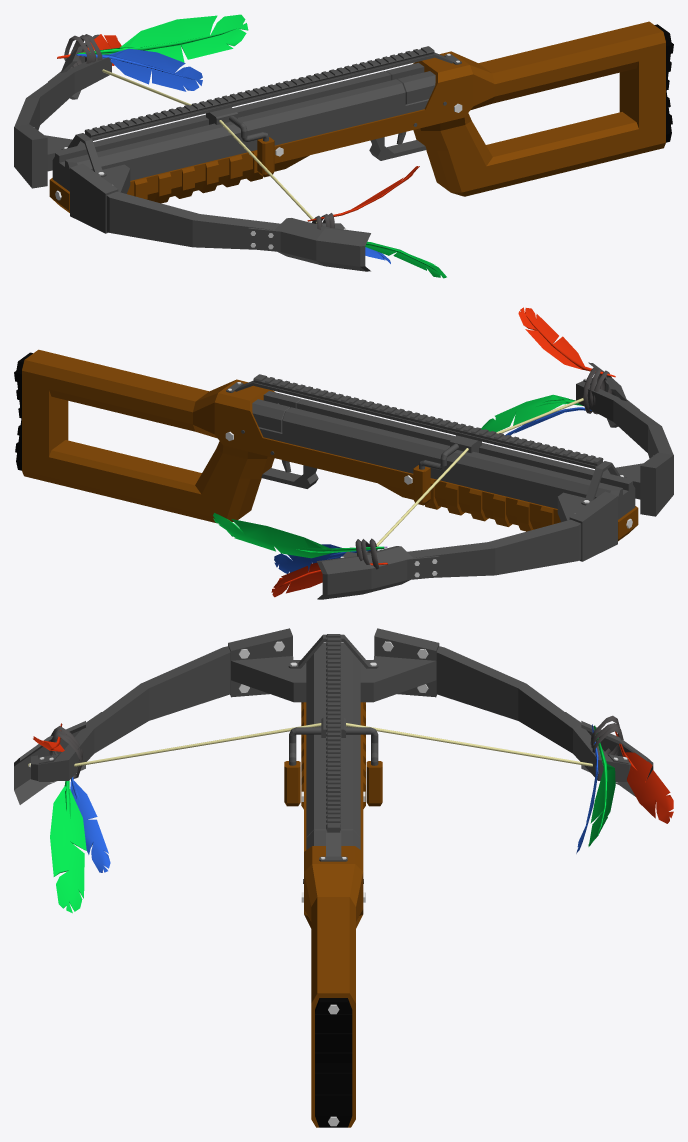
File: crossbow_msi.fbx
The picture shows the model from 3 angles, top to bottom: view 1: azimuth 30°, elevation 25°; view 2: azimuth 150°, elevation 25°; view 3: azimuth 270°, elevation 25°; orthographic projection. The views are drawn at different scales.
Visible parts, largest first — view 1: Cube.001, Cube, Cube.003, DartGun.002, Cube.007, Cube.008, DartGun, Cube.002, Cube.006, Cylinder, Cube.009; view 2: Cube.001, Cube, Cube.003, Cube.007, DartGun.002, Cube.008, DartGun, Cube.002, Cube.006, Cylinder, Cube.009; view 3: Cube.003, Cube.001, Cube, DartGun, Cube.009, Cube.007, DartGun.002, Cube.002, Cube.008, Cylinder, Cylinder.016.
Part boxes in pixels (x1,y1,x2,y2): Cube.001: (49,21,665,212); Cube: (52,62,435,191); Cube.003: (14,51,345,249); DartGun.002: (57,14,248,91); Cube.007: (61,46,461,177); Cube.008: (48,34,370,271); DartGun: (307,166,446,278); Cube.002: (206,107,274,177); Cube.006: (369,137,426,160); Cylinder: (102,69,316,223); Cube.009: (654,24,673,142); Cube.001: (22,349,638,541); Cube: (252,391,635,519); Cube.003: (342,378,673,577); Cube.007: (226,374,626,505); DartGun.002: (213,513,387,597); Cube.008: (317,362,639,599); DartGun: (481,307,615,444); Cube.002: (413,429,481,505); Cube.006: (261,465,318,488); Cylinder: (376,398,583,546); Cube.009: (14,352,32,470); Cube.003: (31,628,631,781); Cube.001: (301,702,365,1127); Cube: (306,642,360,849); DartGun: (33,723,110,913); Cube.009: (315,998,352,1127); Cube.007: (288,634,378,861); DartGun.002: (576,715,673,853); Cube.002: (284,717,382,806); Cube.008: (14,712,653,804); Cylinder: (28,723,592,767); Cylinder.016: (39,641,627,1126).
Bounding box in the file's own units: 1516 × 374 × 1219.
